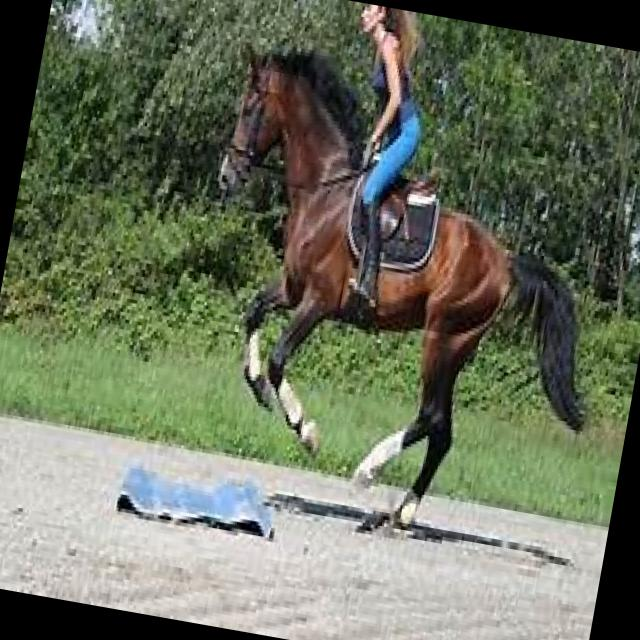horse: (132, 31, 640, 564)
